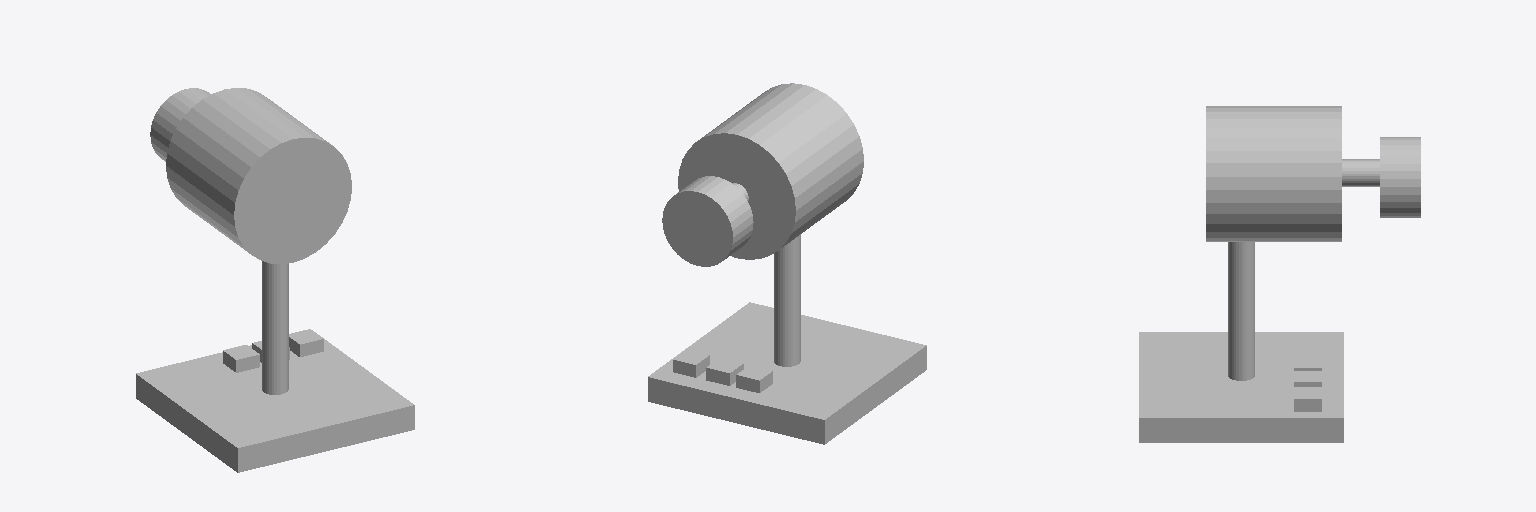
Rendered from ventilador_corpo.obj.
The picture shows the model from 3 angles: view 1: azimuth 30°, elevation 25°; view 2: azimuth 150°, elevation 25°; view 3: azimuth 270°, elevation 25°; orthographic projection.
Visible parts, largest first — view 1: Cilindro.001, Cube.001, Cilindro, Cilindro.003, Cubo.002_Cubo.003, Cubo_Cubo.001; view 2: Cube.001, Cilindro.001, Cilindro.003, Cilindro, Cubo.002_Cubo.003, Cubo_Cubo.001, Cubo.001_Cubo.002; view 3: Cube.001, Cilindro.001, Cilindro, Cilindro.003, Cilindro.002, Cubo_Cubo.001.
Boxes of the visible parts, x1,y1,x2,y2 form: Cilindro.001: [166, 88, 351, 263]; Cube.001: [136, 330, 414, 472]; Cilindro: [262, 261, 288, 394]; Cilindro.003: [150, 88, 210, 161]; Cubo.002_Cubo.003: [223, 345, 259, 372]; Cubo_Cubo.001: [289, 329, 323, 356]; Cube.001: [648, 302, 926, 444]; Cilindro.001: [678, 83, 863, 259]; Cilindro.003: [662, 176, 753, 266]; Cilindro: [774, 234, 800, 366]; Cubo.002_Cubo.003: [736, 365, 772, 392]; Cubo_Cubo.001: [673, 350, 709, 377]; Cubo.001_Cubo.002: [706, 358, 743, 385]; Cube.001: [1139, 332, 1343, 442]; Cilindro.001: [1206, 106, 1341, 241]; Cilindro: [1228, 242, 1254, 380]; Cilindro.003: [1380, 137, 1420, 217]; Cilindro.002: [1342, 159, 1379, 186]; Cubo_Cubo.001: [1294, 387, 1321, 411].
Bounding box in the file's own units: 0.15 × 0.233 × 0.2064.